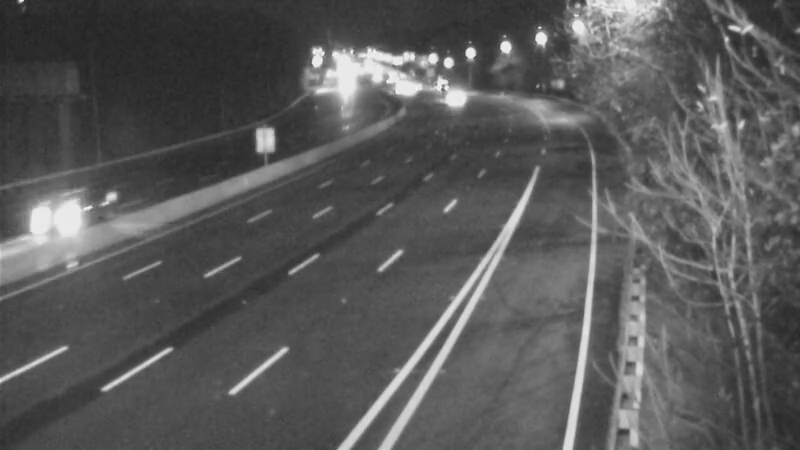vehicle: (34, 173, 114, 253), (416, 57, 466, 107), (429, 70, 479, 120)
